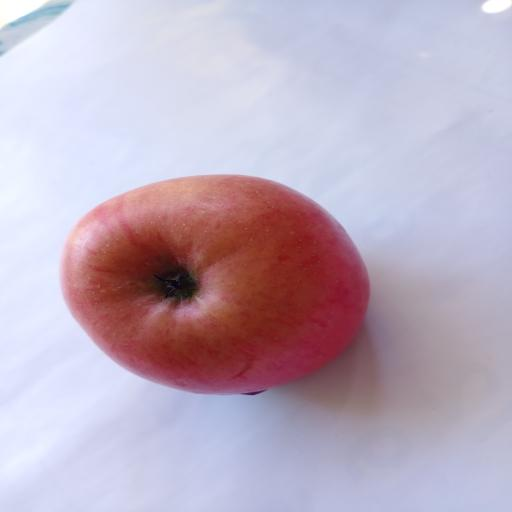apple-ripe: (50, 165, 384, 409)
